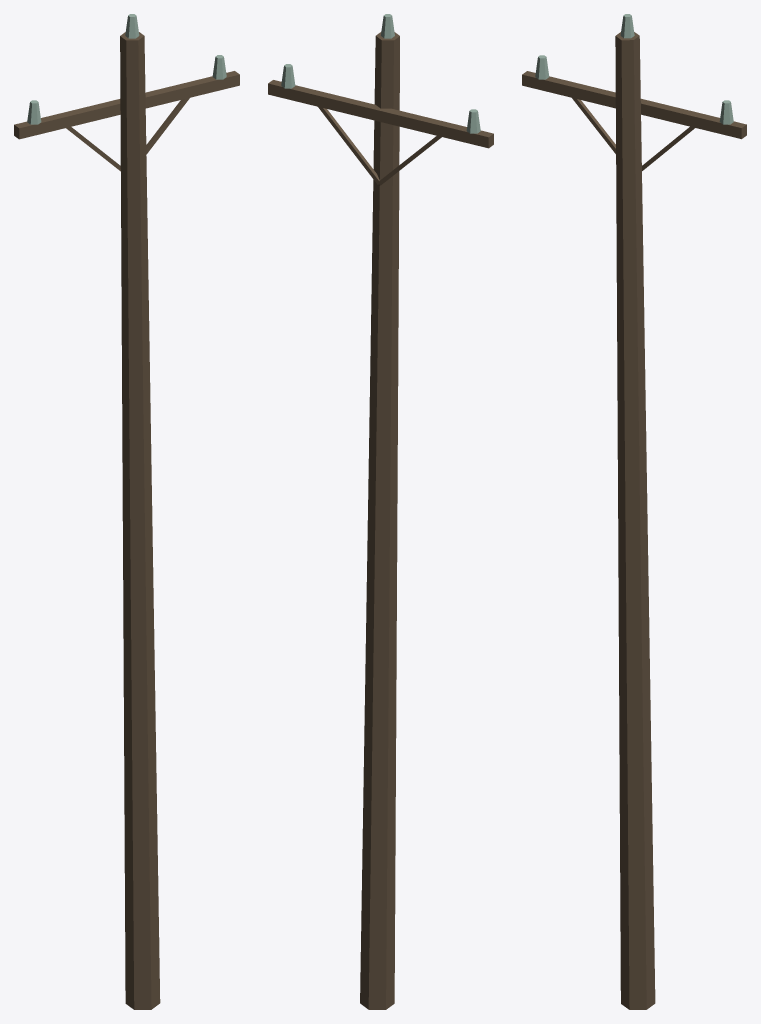
The model's file is power-pole.glb.
3 views of the same model, side by side, from view 1: azimuth 30°, elevation 25°; view 2: azimuth 150°, elevation 25°; view 3: azimuth 330°, elevation 25° (orthographic).
Parts seen in each view (by area): view 1: power_pole_body; view 2: power_pole_body; view 3: power_pole_body.
Part boxes in pixels (x1,y1,x2,y2): power_pole_body: (14,14,239,1009); power_pole_body: (268,14,493,1009); power_pole_body: (522,14,746,1009).
Size of the model in its own units: 2.5 by 10.72 by 0.36.
